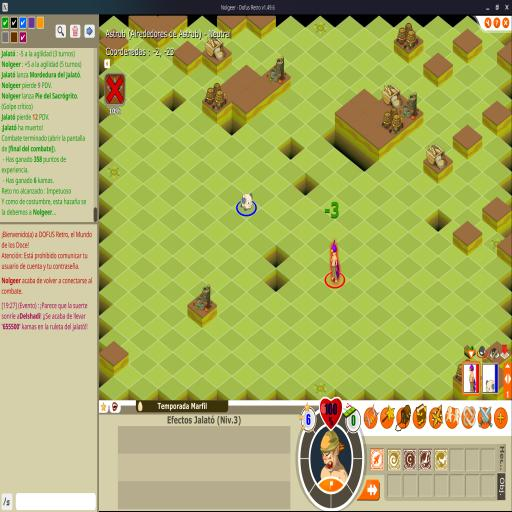Enemigos: (240, 192, 254, 212)
Personaje: (330, 240, 341, 284)
